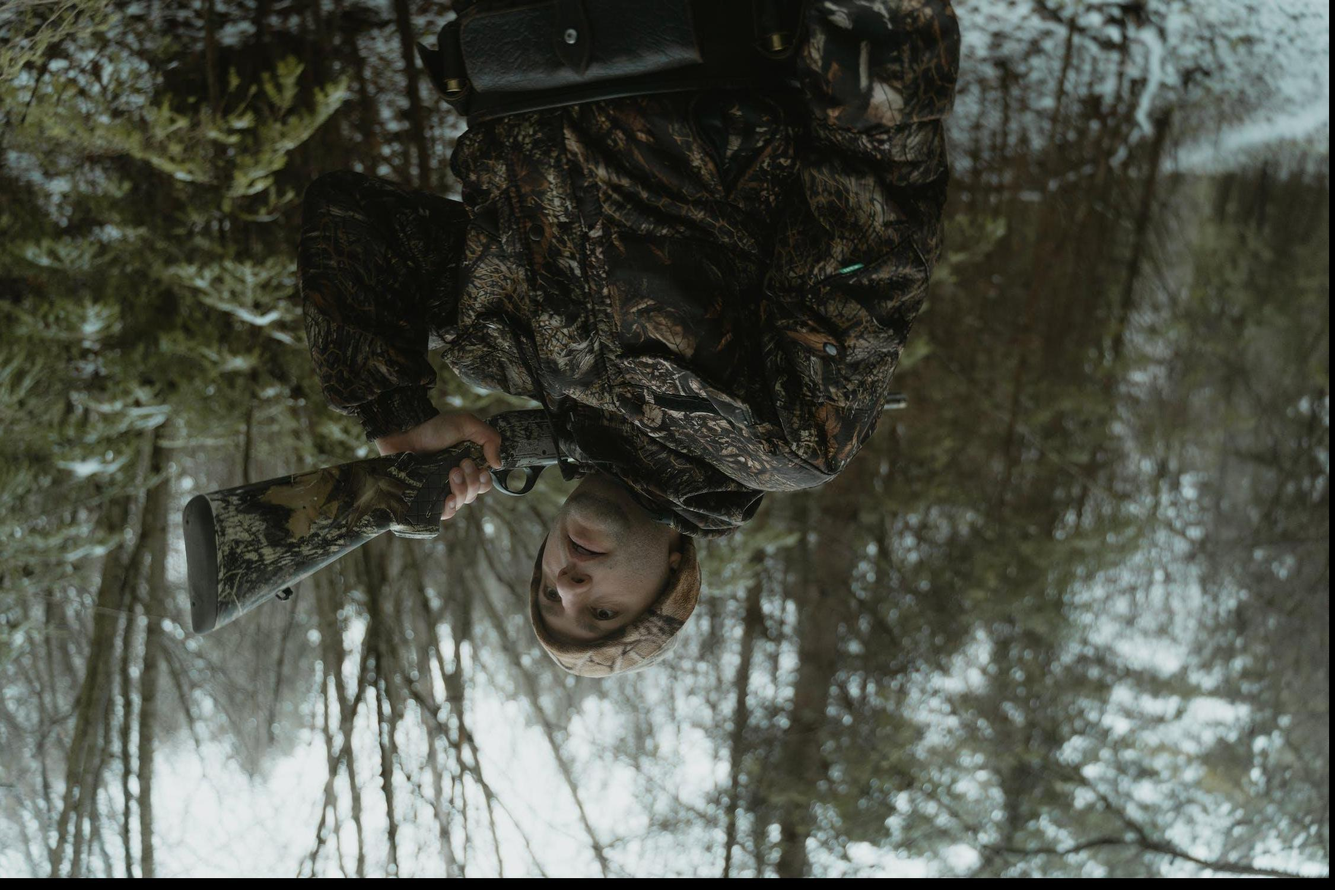larga: (179, 407, 605, 637)
